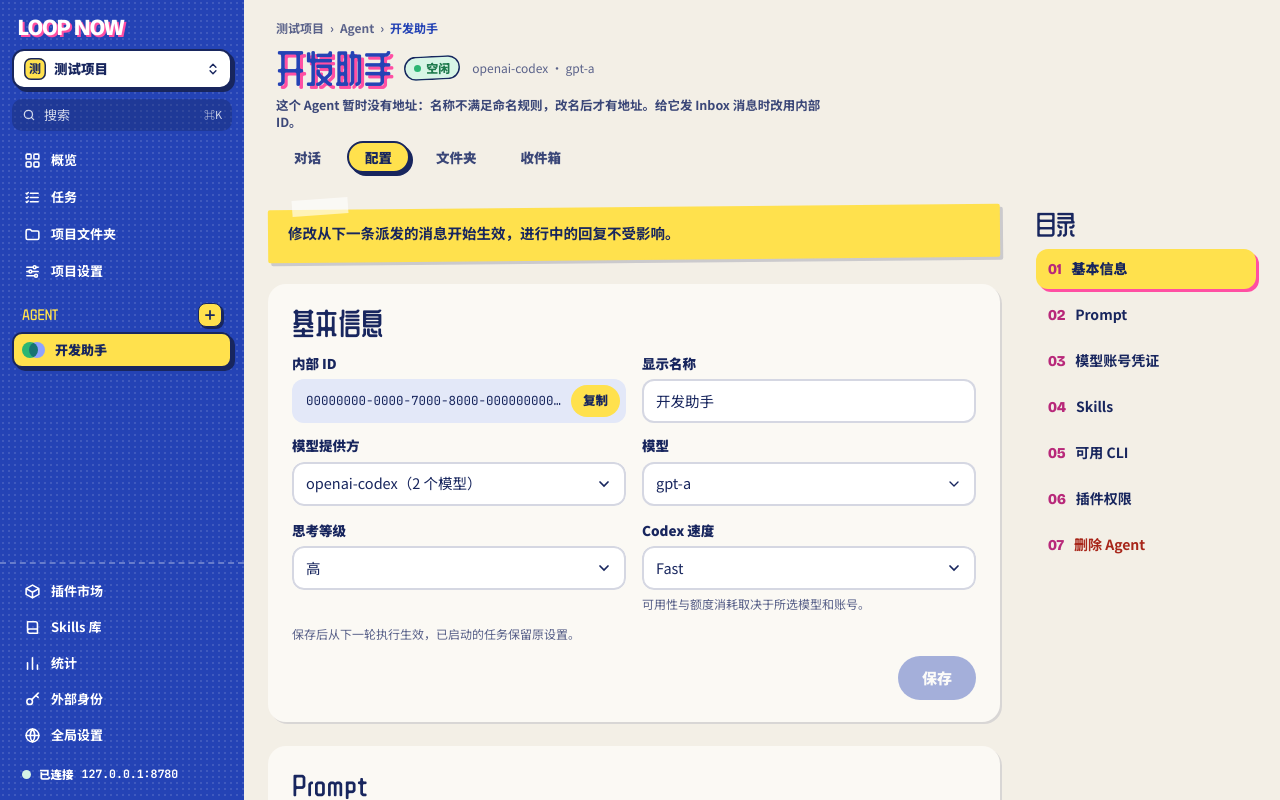
Test: 服务端刷新跟随未编辑速度，已编辑草稿保留并提示并发修改
Expected: the element "基本信息" is shown, [268, 284, 1000, 722]
Expected: the dropdown labelled "思考等级" is enabled, [292, 546, 626, 590]
Select "Ultrafast" in the dropdown labelled "Codex 速度": (809, 568) [642, 546, 976, 590]
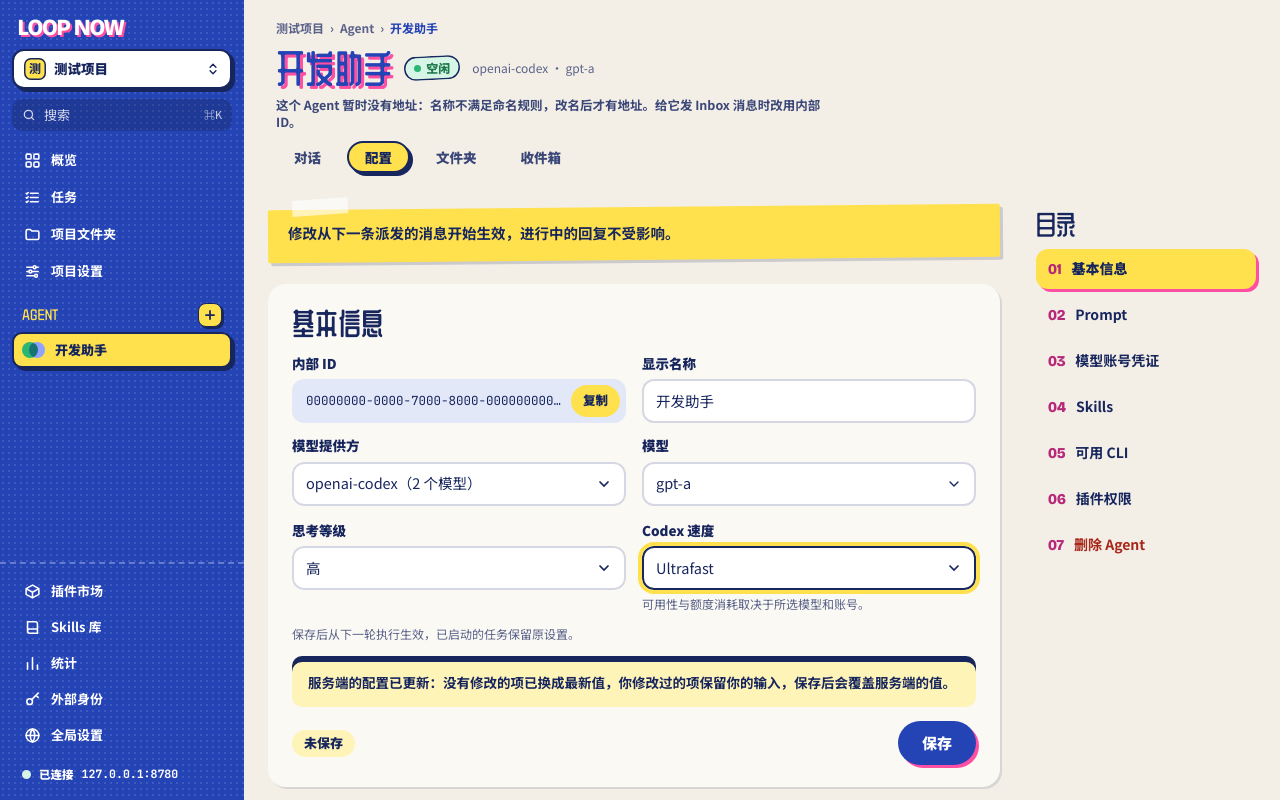
Result: the text "服务端的配置已更新：没有修改的项已换成最新值，你修改过的项保留你的输入，保存后会覆盖服务端的值。" is shown at [308, 672, 960, 695]
Result: the button "保存" is enabled at [898, 721, 976, 765]
